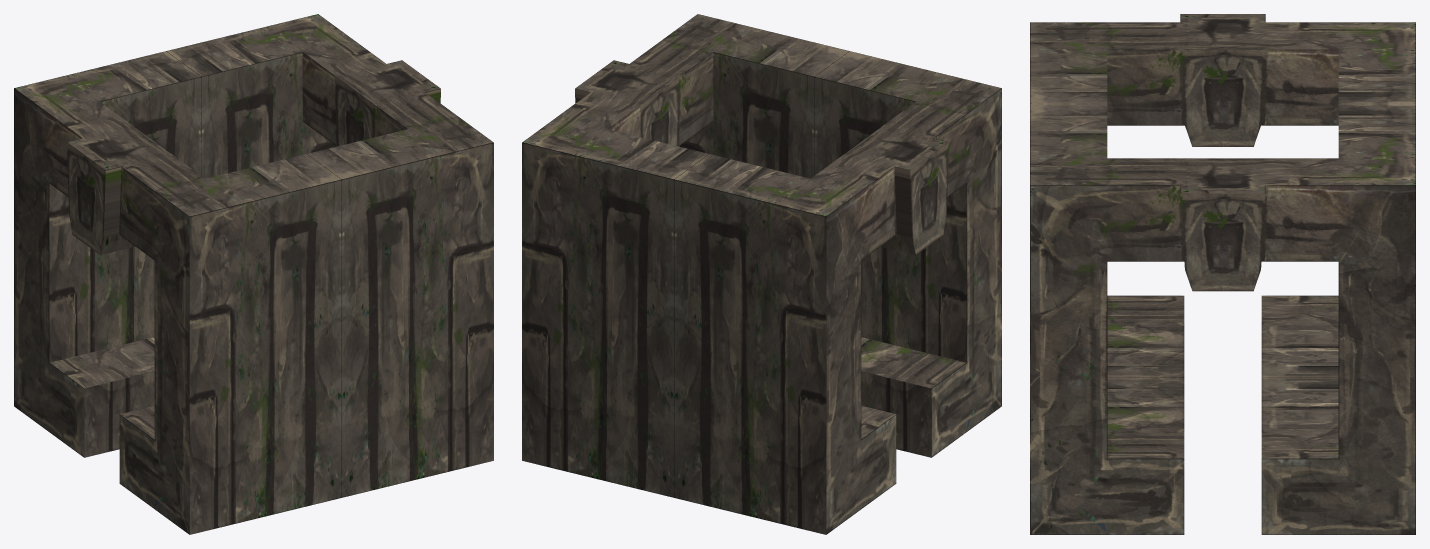
File: gates_frame.fbx
3 views of the same model, side by side, from view 1: azimuth 30°, elevation 25°; view 2: azimuth 150°, elevation 25°; view 3: azimuth 270°, elevation 25° (orthographic). The views are drawn at different scales.
Visible parts, largest first — view 1: gate_low:pCube1; view 2: gate_low:pCube1; view 3: gate_low:pCube1.
Part boxes in pixels (x1,y1,x2,y2): gate_low:pCube1: (14, 14, 493, 534); gate_low:pCube1: (522, 14, 1001, 534); gate_low:pCube1: (1030, 14, 1415, 534).
Bounding box in the file's own units: 110 × 100 × 100.
